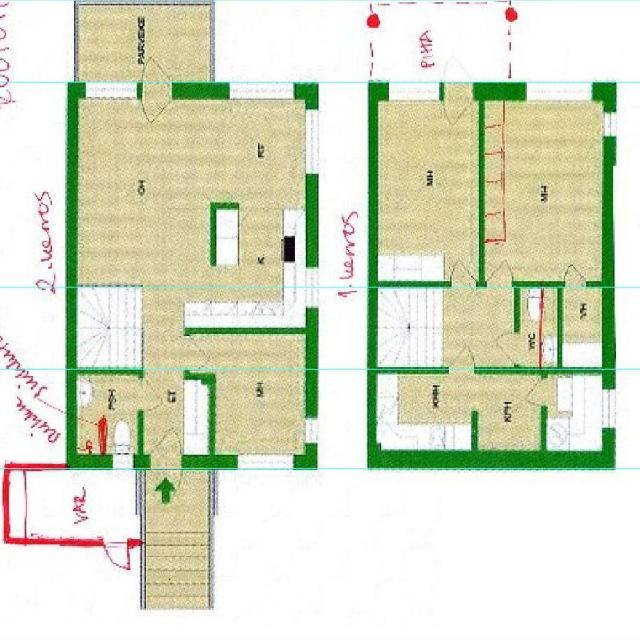door: (141, 83, 174, 137), (141, 46, 173, 101), (150, 416, 182, 469), (150, 453, 182, 505), (444, 82, 474, 137), (444, 47, 474, 101), (185, 338, 218, 370), (487, 332, 519, 364), (137, 380, 171, 410), (451, 250, 477, 286), (488, 251, 514, 286), (449, 337, 475, 372), (516, 376, 546, 406), (565, 255, 587, 286)
